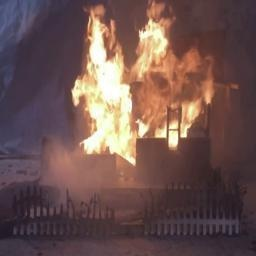fire: (59, 0, 231, 178)
